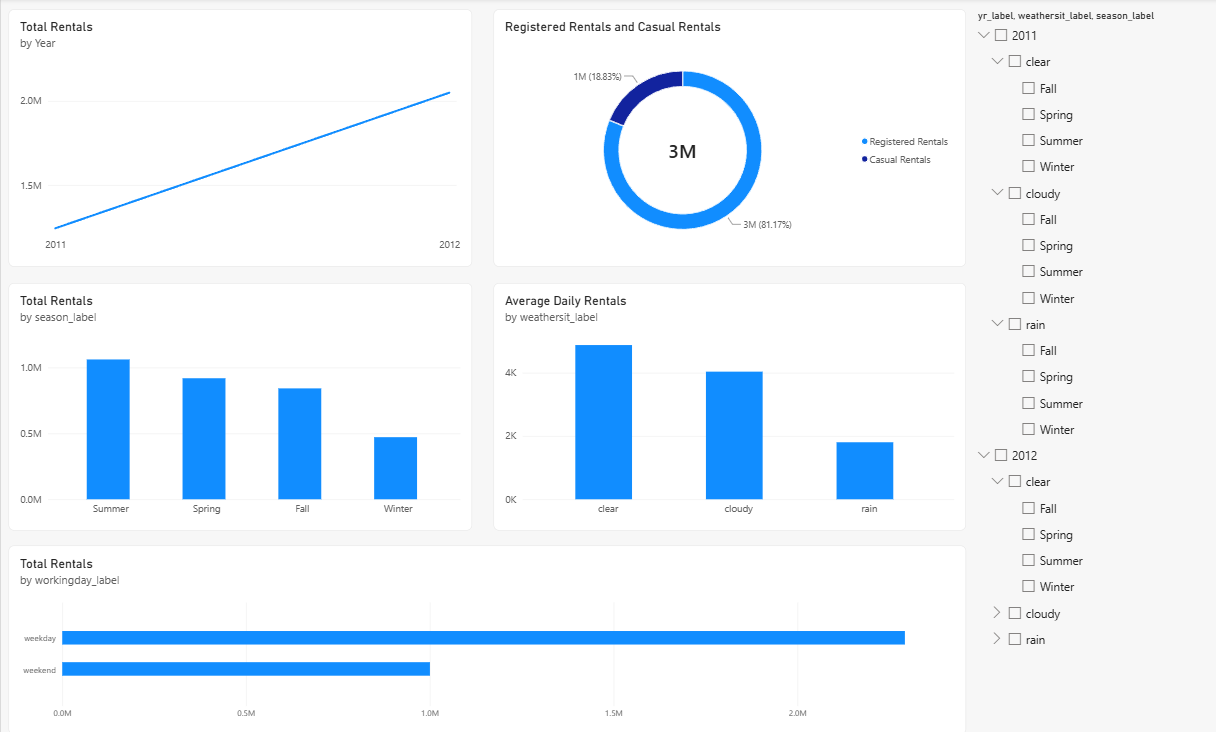

The dashboard page shown, as its layout file describes it:
{"tool":"powerbi","page":{"name":"Page 1","canvas":[1920,1080],"ordinal":0},"visuals":[{"type":"lineChart","fields":{"Category":["day.dteday.Variation.Date Hierarchy.Year","day.dteday.Variation.Date Hierarchy.Quarter","day.dteday.Variation.Date Hierarchy.Month","day.dteday.Variation.Date Hierarchy.Day"],"Y":["day.Total Rentals"]},"box":[10.9,16.3,671.4,372.8],"z":0},{"type":"clusteredColumnChart","fields":{"Category":["day.season_label"],"Y":["day.Total Rentals"]},"box":[10.9,412.6,671.4,358.3],"z":1},{"type":"donutChart","fields":{"Y":["day.Registered Rentals","day.Casual Rentals"]},"box":[713,16.3,684.1,372.8],"z":2},{"type":"clusteredColumnChart","fields":{"Category":["day.weathersit_label"],"Y":["day.Average Daily Rentals"]},"box":[713,412.6,684.1,358.3],"z":3},{"type":"clusteredBarChart","fields":{"Category":["day.workingday_label"],"Y":["day.Total Rentals"]},"box":[10.9,792.6,1386.2,273.3],"z":4},{"type":"slicer","fields":{"Values":["day.yr_label","day.weathersit_label","day.season_label"]},"box":[1406.1,16.3,512.1,1049.6],"z":5}]}

Visuals, with their boxes on the page's 1920x1080 design canvas (x1, y1, x2, y2). These are canvas units, not pixel positions in the 1216x732 screenshot, which may show the page scaled, cropped or inside an application window:
lineChart - day.dteday.Variation.Date Hierarchy.Year x day.dteday.Variation.Date Hierarchy.Quarter: (11,16,682,389)
clusteredColumnChart - day.season_label x day.Total Rentals: (11,413,682,771)
donutChart - day.Registered Rentals x day.Casual Rentals: (713,16,1397,389)
clusteredColumnChart - day.weathersit_label x day.Average Daily Rentals: (713,413,1397,771)
clusteredBarChart - day.workingday_label x day.Total Rentals: (11,793,1397,1066)
slicer - day.yr_label x day.weathersit_label: (1406,16,1918,1066)
